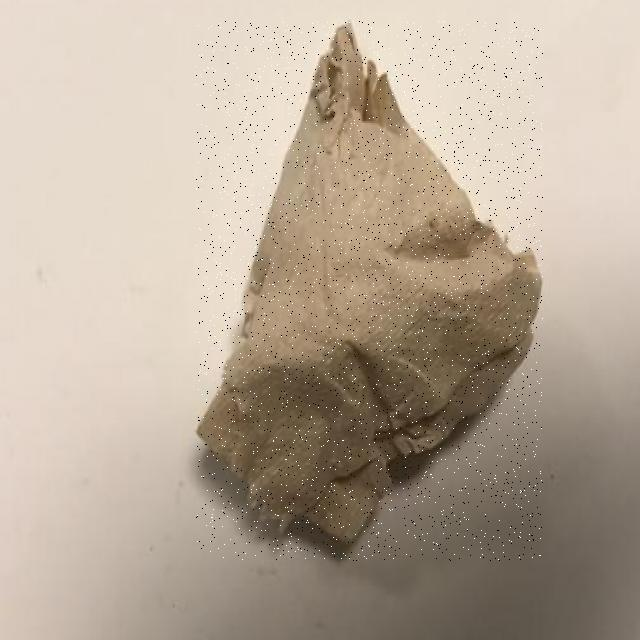paper: (196, 21, 543, 561)
